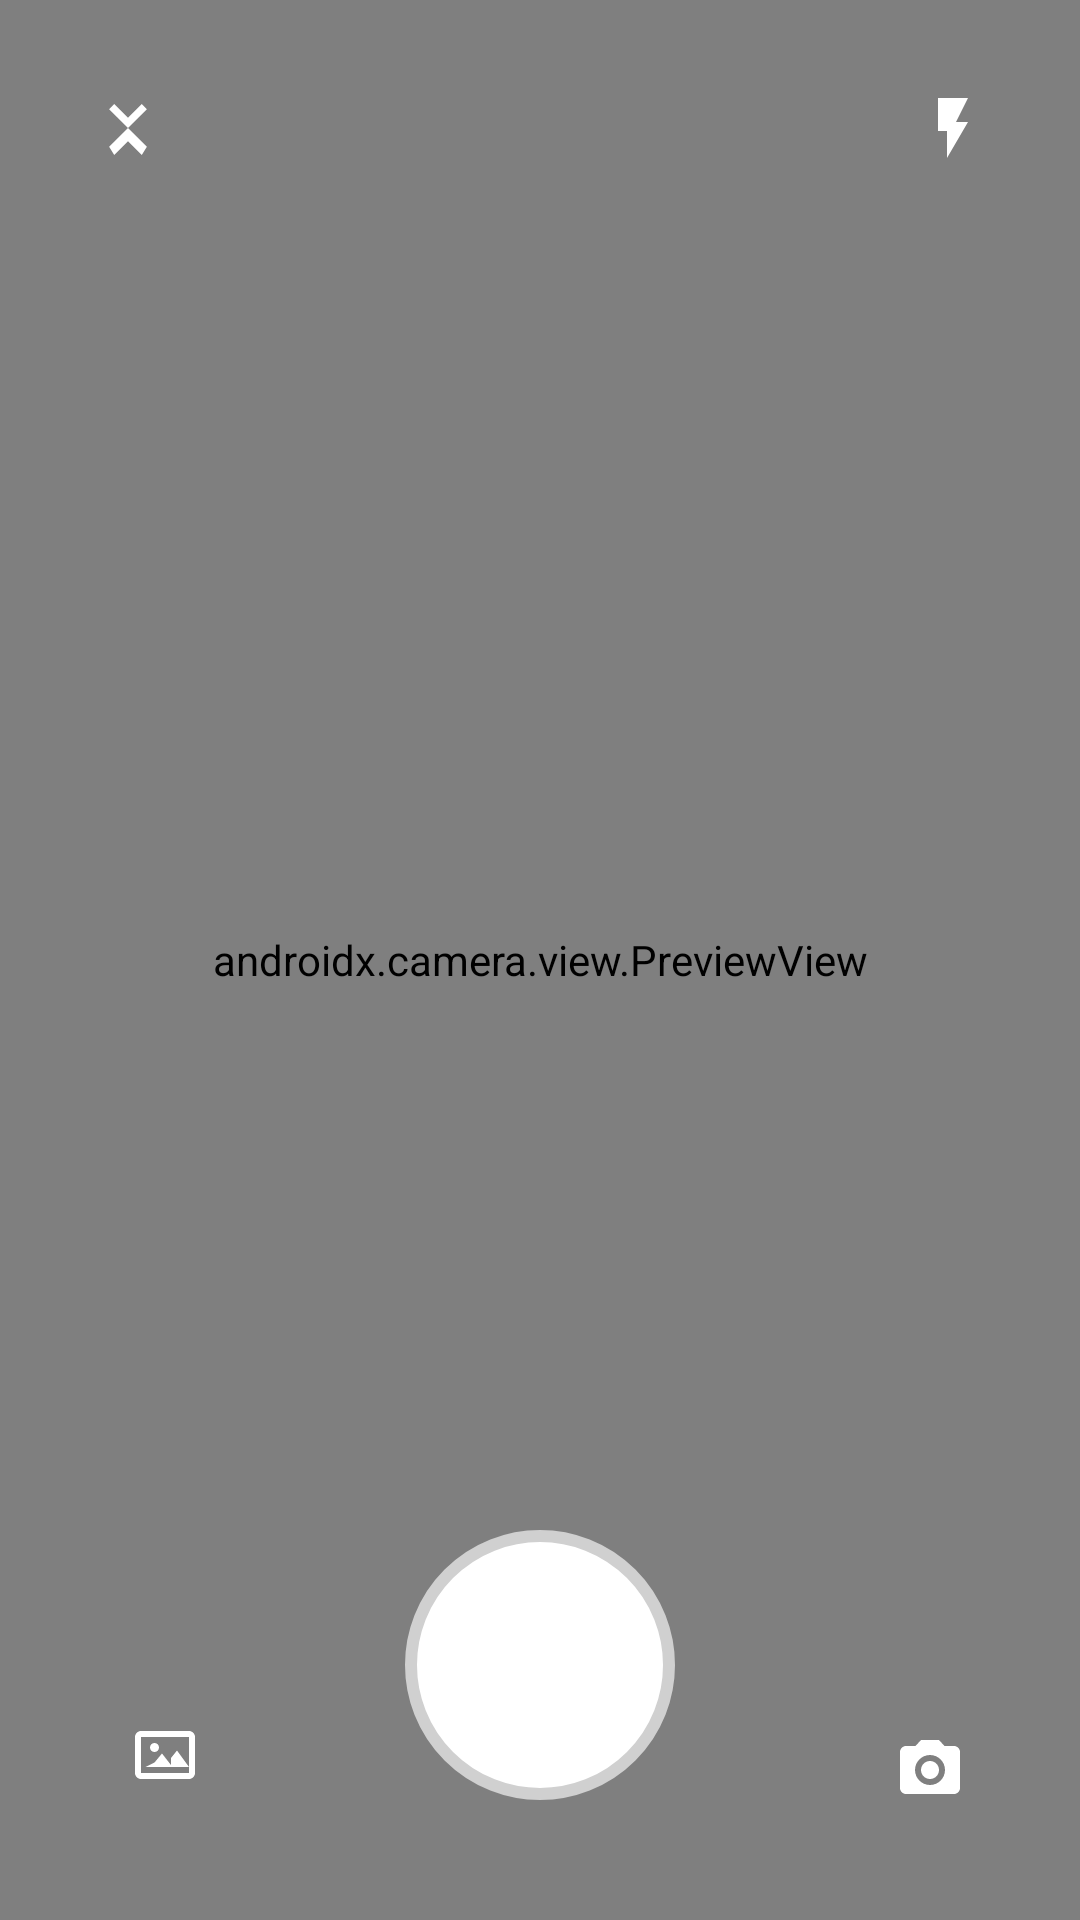

Point at icon controls on the screen. Image size 1080 × 1920, points as (x,y).
close: (128,129)
flash on: (953,128)
gallery: (165,1755)
